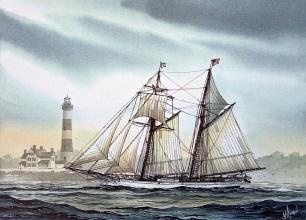fanchuan: (68, 56, 255, 185)
